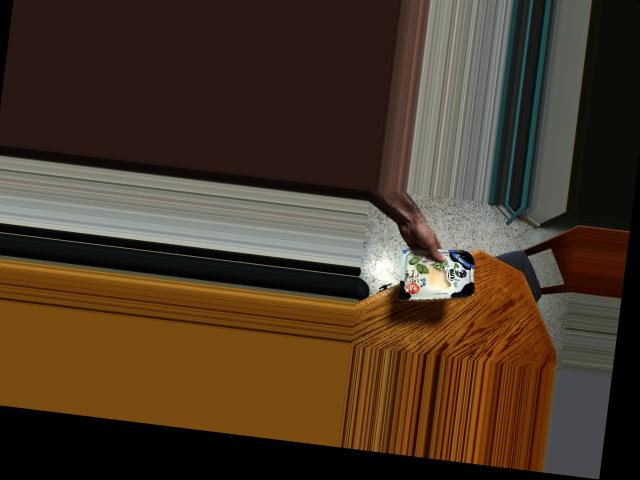cheese: (396, 233, 477, 309)
